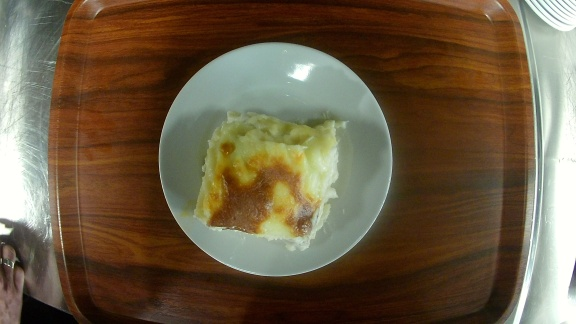firinmakarna: (156, 41, 394, 277)
